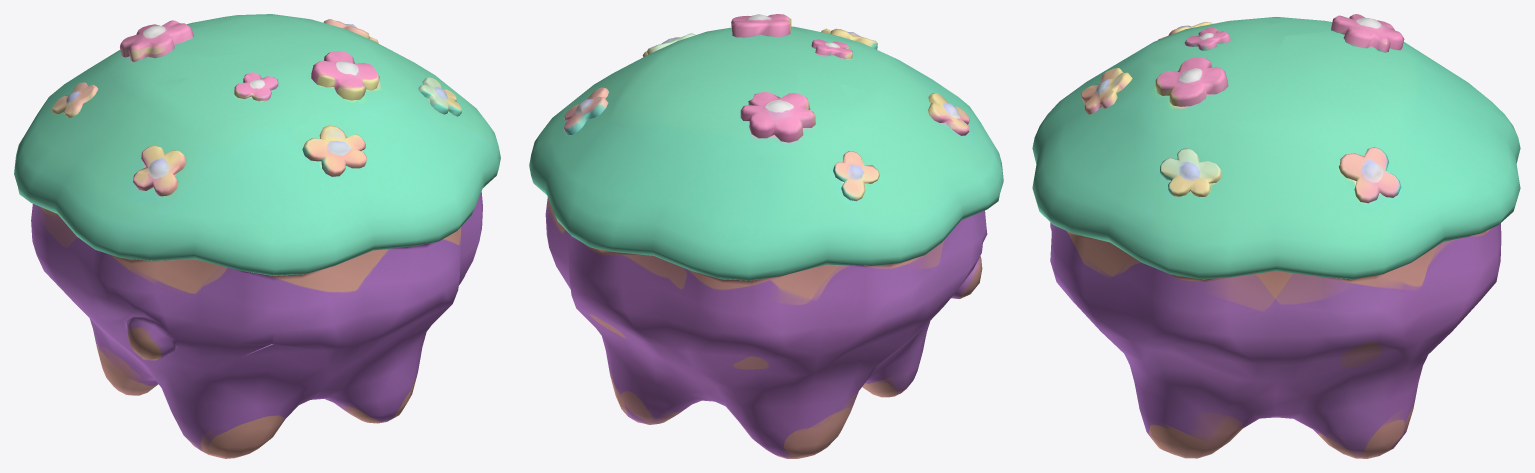
The model's file is island.glb.
3 views of the same model, side by side, from view 1: azimuth 30°, elevation 25°; view 2: azimuth 150°, elevation 25°; view 3: azimuth 270°, elevation 25° (orthographic). The views are drawn at different scales.
Bounding box in the file's own units: 0.9575 × 0.8057 × 0.9585.
1 material, 1 textured.
